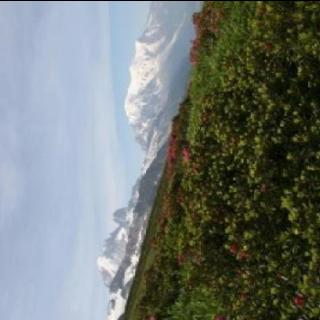Cirrostratus: (0, 0, 117, 320)
